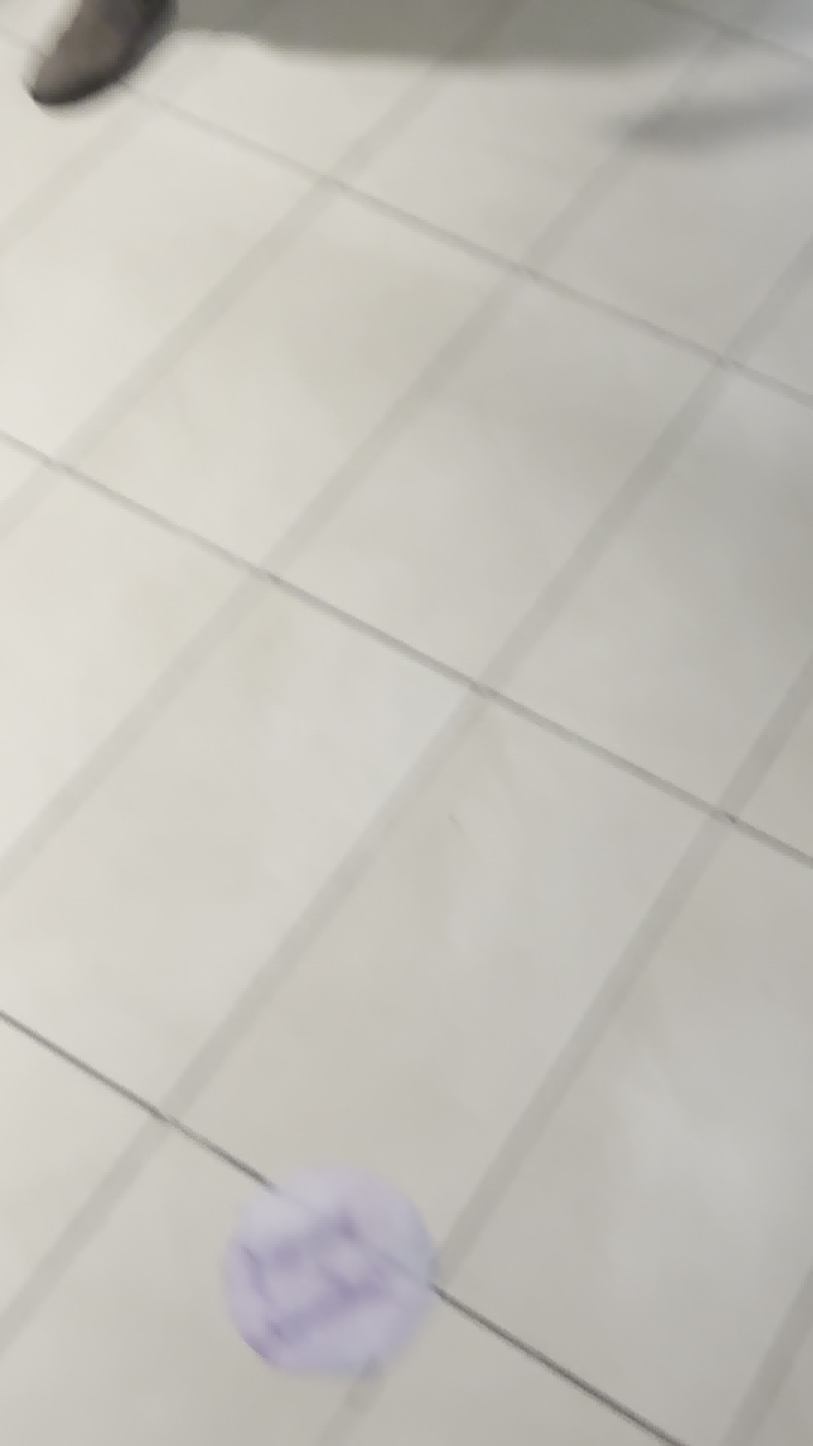Target: (220, 1169, 435, 1373)
